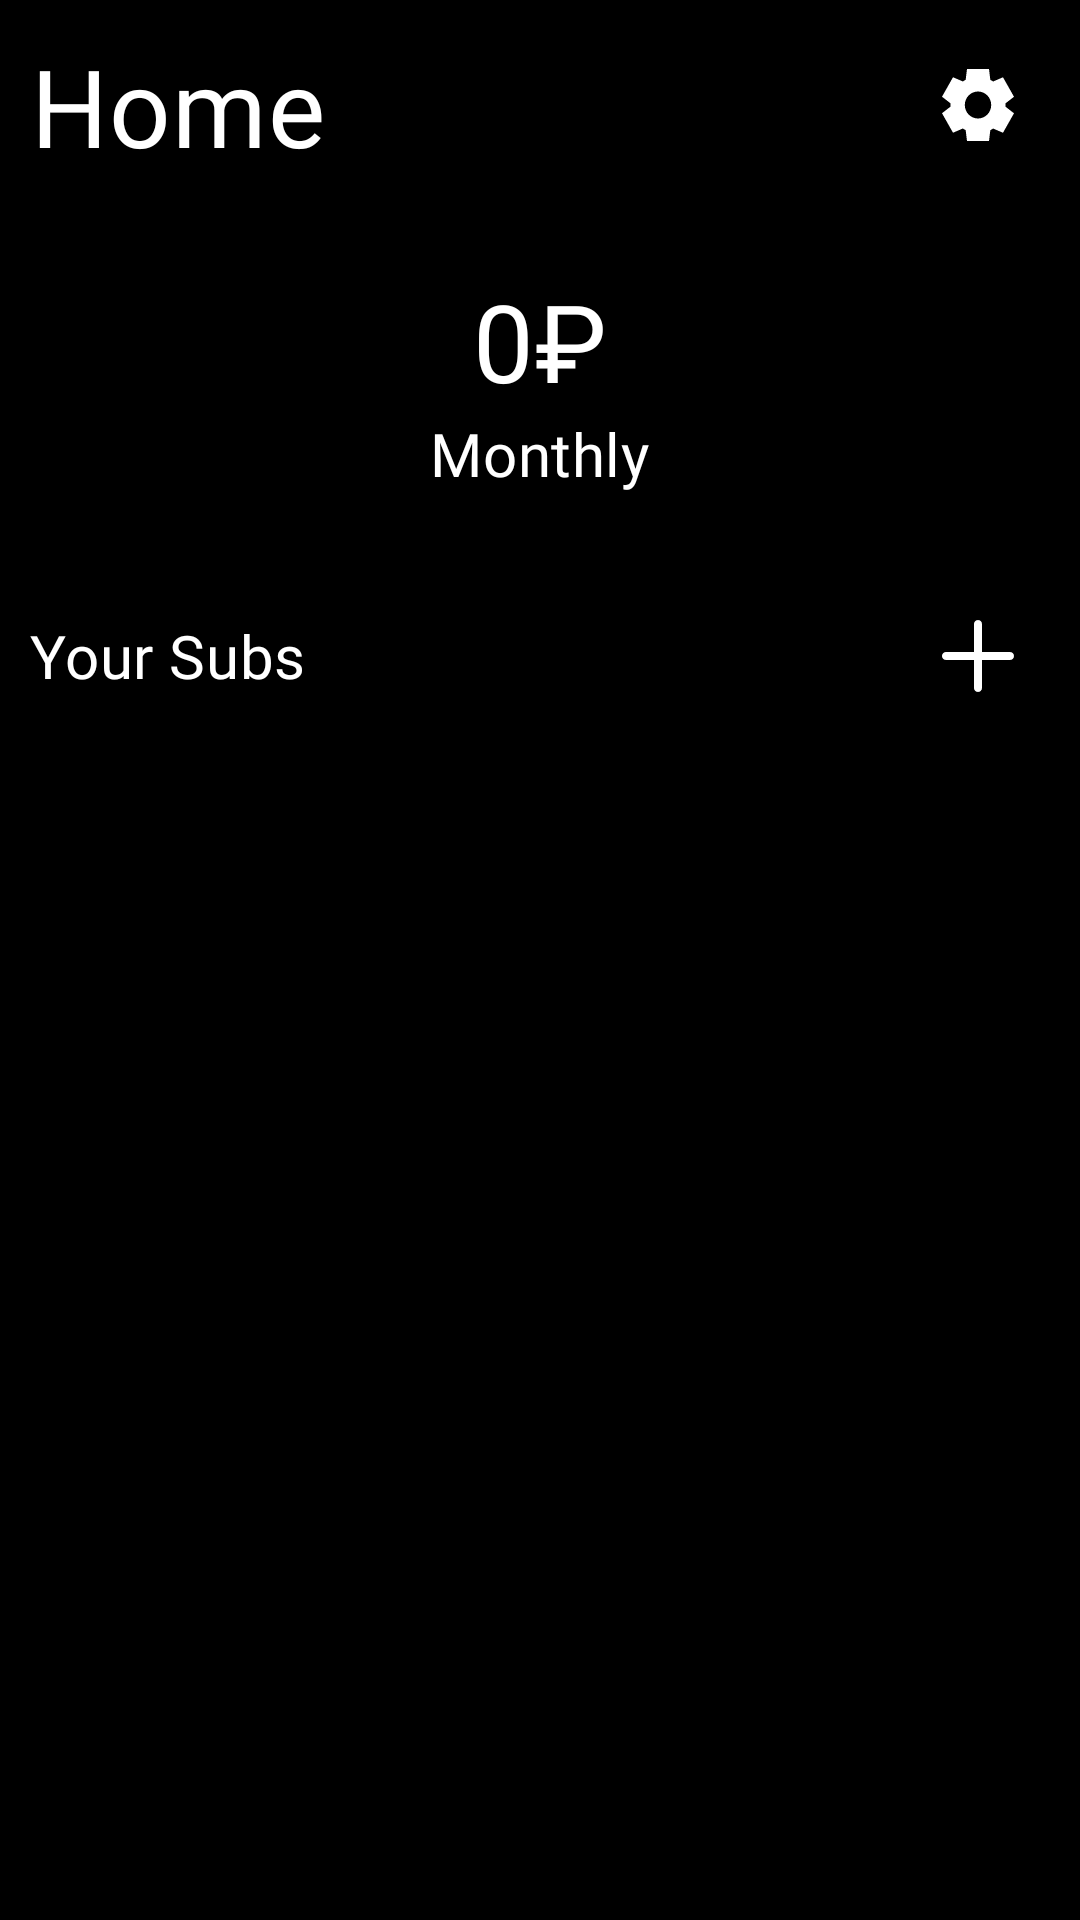

Where to tap for icons on this 1080x1920 app screen, as point (x, y):
add: point (978, 656)
settings: point (978, 105)
